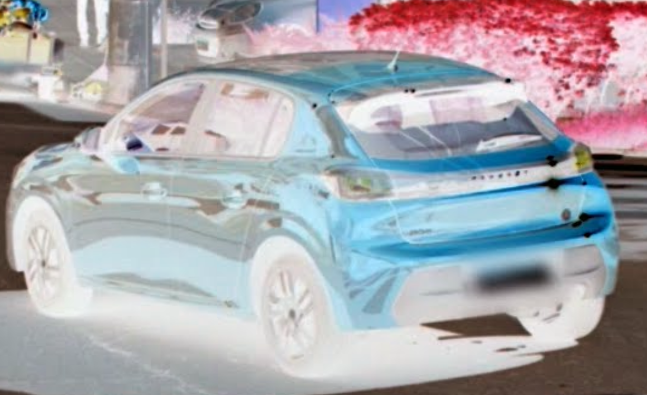car: (7, 49, 623, 379)
